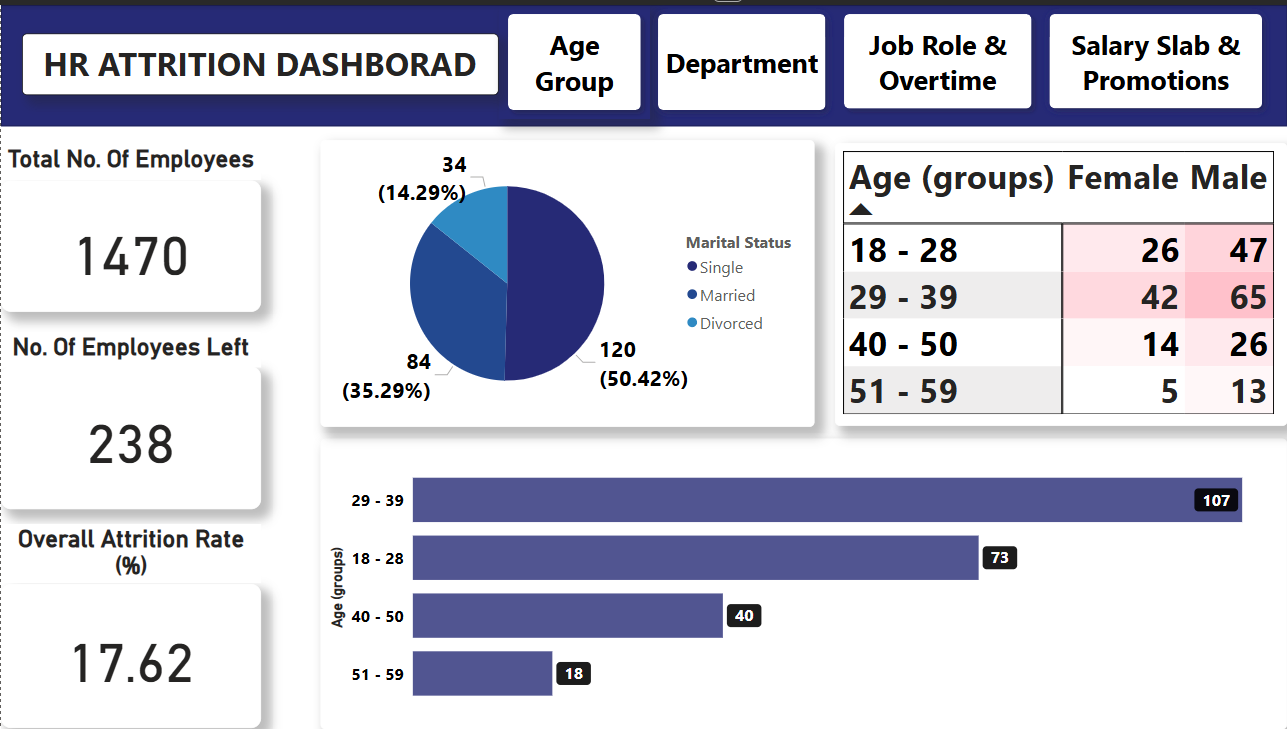

Layout of this report page (visuals, bound fields, positions):
{"tool":"powerbi","page":{"name":"Age Group","canvas":[1280,720],"ordinal":0},"visuals":[{"type":"shape","box":[0,0,1279.4,120.6],"z":0,"group":"g1"},{"type":"card","title":"Total No. Of Employees","fields":{"Values":["CountNonNull(HR_Attrition.EmpID)"]},"box":[0,173.9,258.9,130.4],"z":1000},{"type":"card","title":"No. of Employees Left the company","fields":{"Values":["Sum(HR_Attrition.Attrition_Numeric)"]},"box":[0,359.1,258.9,141.7],"z":2000},{"type":"card","title":"Overall Attrition Rate (%)","fields":{"Values":["HR_Attrition.Attrition Rate"]},"box":[0,576.4,258.9,143.6],"z":3000},{"type":"clusteredBarChart","fields":{"Category":["HR_Attrition.Age (groups)"],"Y":["Sum(HR_Attrition.Attrition_Numeric)","select"]},"box":[318,431.5,961.5,289.2],"z":4000},{"type":"pieChart","fields":{"Y":["Sum(HR_Attrition.Attrition_Numeric)"],"Category":["HR_Attrition.MaritalStatus"]},"box":[317.5,134.2,491.3,285.4],"z":5000},{"type":"pivotTable","fields":{"Rows":["HR_Attrition.Age (groups)"],"Values":["Sum(HR_Attrition.Attrition_Numeric)"],"Columns":["HR_Attrition.Gender"]},"box":[829.8,137.8,449.7,281.6],"z":6000},{"type":"textbox","title":"Total No. Of Employees","box":[0,138.3,258.3,35],"z":7000},{"type":"textbox","title":"No. Of Employees Left","box":[0,325,258.3,35],"z":8000},{"type":"textbox","title":"Overall Attrition Rate (%)","box":[0,516.3,259,58.4],"z":9000},{"type":"textbox","title":"HR ATTRITION DASHBOARD","box":[21.2,28.9,473.7,61.6],"z":10000,"group":"g1"},{"type":"actionButton","title":"Age Group","box":[494.9,0,150.2,113.6],"z":11000,"group":"g1"},{"type":"actionButton","title":"Department & Job Role","box":[645.1,0,184.7,113.6],"z":12000,"group":"g1"},{"type":"actionButton","title":"Department & Job Role","box":[829.8,0,204.4,112.1],"z":13000,"group":"g1"},{"type":"actionButton","title":"Department & Job Role","box":[1034.2,0,229.2,111.7],"z":14000,"group":"g1"},{"type":"group","id":"g1","title":"Group 1","box":[0,0,1279.4,120.6],"z":14001}]}

Visuals, with their boxes in screenshot pixels (x1, y1, x2, y2), scaled from the page's 1280x720 canvas onto the 1287x729 screenshot:
shape: x1=0, y1=0, x2=1286, y2=122
"Total No. Of Employees" card: x1=0, y1=176, x2=260, y2=308
"No. of Employees Left the company" card: x1=0, y1=364, x2=260, y2=507
"Overall Attrition Rate (%)" card: x1=0, y1=584, x2=260, y2=728
clusteredBarChart - HR_Attrition.Age (groups) x Sum(HR_Attrition.Attrition_Numeric): x1=320, y1=437, x2=1286, y2=728
pieChart - Sum(HR_Attrition.Attrition_Numeric) x HR_Attrition.MaritalStatus: x1=319, y1=136, x2=813, y2=425
pivotTable - HR_Attrition.Age (groups) x Sum(HR_Attrition.Attrition_Numeric): x1=834, y1=140, x2=1286, y2=425
"Total No. Of Employees" textbox: x1=0, y1=140, x2=260, y2=175
"No. Of Employees Left" textbox: x1=0, y1=329, x2=260, y2=364
"Overall Attrition Rate (%)" textbox: x1=0, y1=523, x2=260, y2=582
"HR ATTRITION DASHBOARD" textbox: x1=21, y1=29, x2=498, y2=92
"Age Group" actionButton: x1=498, y1=0, x2=649, y2=115
"Department & Job Role" actionButton: x1=649, y1=0, x2=834, y2=115
"Department & Job Role" actionButton: x1=834, y1=0, x2=1040, y2=114
"Department & Job Role" actionButton: x1=1040, y1=0, x2=1270, y2=113
"Group 1" group: x1=0, y1=0, x2=1286, y2=122
